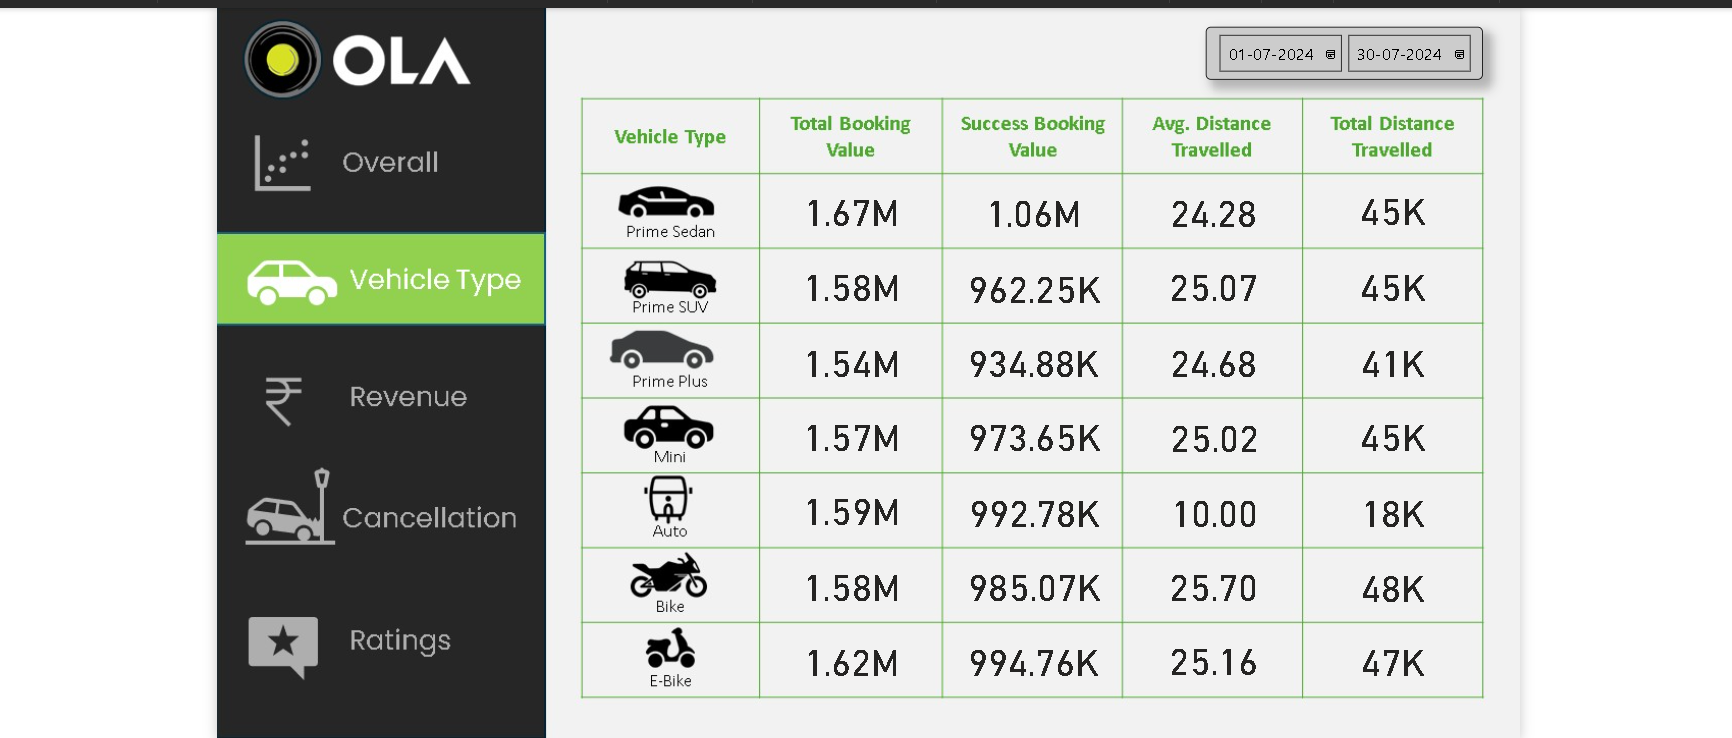

What the dashboard file says about the page in this screenshot:
{"tool":"powerbi","page":{"name":"Vehicle Type","canvas":[1280,720],"ordinal":1},"visuals":[{"type":"actionButton","box":[0,337.4,325.2,90.8],"z":0},{"type":"actionButton","box":[0,445.4,325.2,90.8],"z":1000},{"type":"actionButton","box":[0,582.8,325.2,90.8],"z":2000},{"type":"actionButton","box":[0,104.3,325.2,90.8],"z":3000},{"type":"card","fields":{"Values":["Sum(July.Booking_Value)"]},"box":[536.2,163.2,174.2,69.9],"z":4000},{"type":"card","fields":{"Values":["Sum(July.Booking_Value)"]},"box":[536.5,237.4,174.3,70],"z":5000},{"type":"card","fields":{"Values":["Sum(July.Booking_Value)"]},"box":[536.5,311.5,174.3,70],"z":6000},{"type":"card","fields":{"Values":["Sum(July.Booking_Value)"]},"box":[536.5,384.2,174.3,70],"z":7000},{"type":"card","fields":{"Values":["Sum(July.Booking_Value)"]},"box":[536.5,456.9,174.3,70],"z":8000},{"type":"card","fields":{"Values":["Sum(July.Booking_Value)"]},"box":[536.5,531,174.3,70],"z":9000},{"type":"card","fields":{"Values":["Sum(July.Booking_Value)"]},"box":[536.5,605.1,174.3,70],"z":10000},{"type":"card","fields":{"Values":["Sum(July.Booking_Value)"]},"box":[713.6,164.7,174.3,70],"z":11000},{"type":"card","fields":{"Values":["Sum(July.Booking_Value)"]},"box":[714.9,238.8,174.3,70],"z":12000},{"type":"card","fields":{"Values":["Sum(July.Booking_Value)"]},"box":[713.6,311.5,174.3,70],"z":13000},{"type":"card","fields":{"Values":["Sum(July.Booking_Value)"]},"box":[714.9,384.2,174.3,70],"z":14000},{"type":"card","fields":{"Values":["Sum(July.Booking_Value)"]},"box":[714.9,458.3,174.3,70],"z":15000},{"type":"card","fields":{"Values":["Sum(July.Booking_Value)"]},"box":[714.9,531,174.3,70],"z":16000},{"type":"card","fields":{"Values":["Sum(July.Booking_Value)"]},"box":[713.6,605.1,174.3,70],"z":17000},{"type":"card","fields":{"Values":["Avg(July.Ride_Distance)"]},"box":[890.6,164.7,174.3,70],"z":18000},{"type":"card","fields":{"Values":["Avg(July.Ride_Distance)"]},"box":[890.6,237.4,174.3,70],"z":19000},{"type":"card","fields":{"Values":["Avg(July.Ride_Distance)"]},"box":[890.6,311.5,174.3,70],"z":20000},{"type":"card","fields":{"Values":["Avg(July.Ride_Distance)"]},"box":[891.9,385.6,174.3,70],"z":21000},{"type":"card","fields":{"Values":["Avg(July.Ride_Distance)"]},"box":[891.9,458.3,174.3,70],"z":22000},{"type":"card","fields":{"Values":["Avg(July.Ride_Distance)"]},"box":[890.6,531,174.3,70],"z":23000},{"type":"card","fields":{"Values":["Avg(July.Ride_Distance)"]},"box":[890.6,603.8,174.3,70],"z":24000},{"type":"card","fields":{"Values":["Sum(July.Ride_Distance)"]},"box":[1067.6,161.9,174.3,70],"z":25000},{"type":"card","fields":{"Values":["Sum(July.Ride_Distance)"]},"box":[1067.6,237.4,174.3,70],"z":26000},{"type":"card","fields":{"Values":["Sum(July.Ride_Distance)"]},"box":[1067.6,311.5,174.3,70],"z":27000},{"type":"card","fields":{"Values":["Sum(July.Ride_Distance)"]},"box":[1067.6,384.2,174.3,70],"z":28000},{"type":"card","fields":{"Values":["Sum(July.Ride_Distance)"]},"box":[1067.6,458.3,174.3,70],"z":29000},{"type":"card","fields":{"Values":["Sum(July.Ride_Distance)"]},"box":[1067.6,529.7,174.3,74.1],"z":30000},{"type":"card","fields":{"Values":["Sum(July.Ride_Distance)"]},"box":[1067.6,605.1,174.3,70],"z":31000},{"type":"slicer","title":"Date","fields":{"Values":["July.Date"]},"box":[970.2,17.8,271.7,52.1],"z":32000}]}

Visuals, with their boxes on the page's 1280x720 design canvas (x1, y1, x2, y2). These are canvas units, not pixel positions in the 1732x738 screenshot, which may show the page scaled, cropped or inside an application window:
actionButton: 0,337,325,428
actionButton: 0,445,325,536
actionButton: 0,583,325,674
actionButton: 0,104,325,195
card - Sum(July.Booking_Value): 536,163,710,233
card - Sum(July.Booking_Value): 536,237,711,307
card - Sum(July.Booking_Value): 536,312,711,382
card - Sum(July.Booking_Value): 536,384,711,454
card - Sum(July.Booking_Value): 536,457,711,527
card - Sum(July.Booking_Value): 536,531,711,601
card - Sum(July.Booking_Value): 536,605,711,675
card - Sum(July.Booking_Value): 714,165,888,235
card - Sum(July.Booking_Value): 715,239,889,309
card - Sum(July.Booking_Value): 714,312,888,382
card - Sum(July.Booking_Value): 715,384,889,454
card - Sum(July.Booking_Value): 715,458,889,528
card - Sum(July.Booking_Value): 715,531,889,601
card - Sum(July.Booking_Value): 714,605,888,675
card - Avg(July.Ride_Distance): 891,165,1065,235
card - Avg(July.Ride_Distance): 891,237,1065,307
card - Avg(July.Ride_Distance): 891,312,1065,382
card - Avg(July.Ride_Distance): 892,386,1066,456
card - Avg(July.Ride_Distance): 892,458,1066,528
card - Avg(July.Ride_Distance): 891,531,1065,601
card - Avg(July.Ride_Distance): 891,604,1065,674
card - Sum(July.Ride_Distance): 1068,162,1242,232
card - Sum(July.Ride_Distance): 1068,237,1242,307
card - Sum(July.Ride_Distance): 1068,312,1242,382
card - Sum(July.Ride_Distance): 1068,384,1242,454
card - Sum(July.Ride_Distance): 1068,458,1242,528
card - Sum(July.Ride_Distance): 1068,530,1242,604
card - Sum(July.Ride_Distance): 1068,605,1242,675
"Date" slicer: 970,18,1242,70
